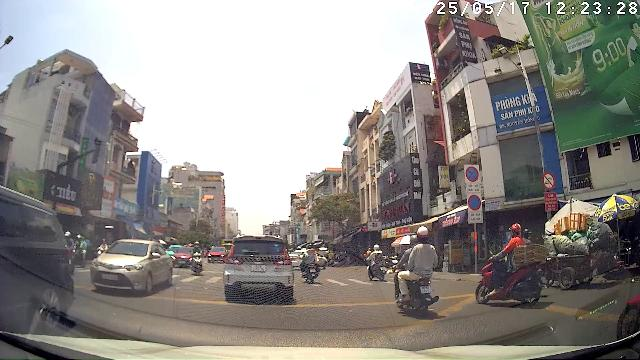130-cam-dung-va-do-xe: (466, 166, 478, 182)
131a-cam-do-xe: (468, 194, 480, 210)
